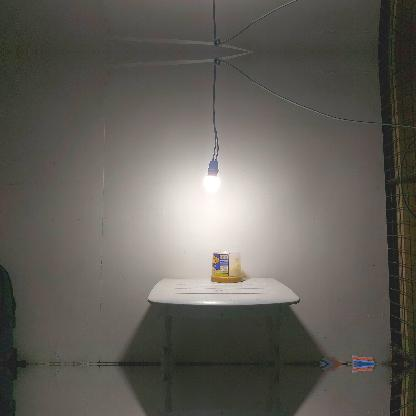Lady-s-Choice: (211, 249, 243, 283)
